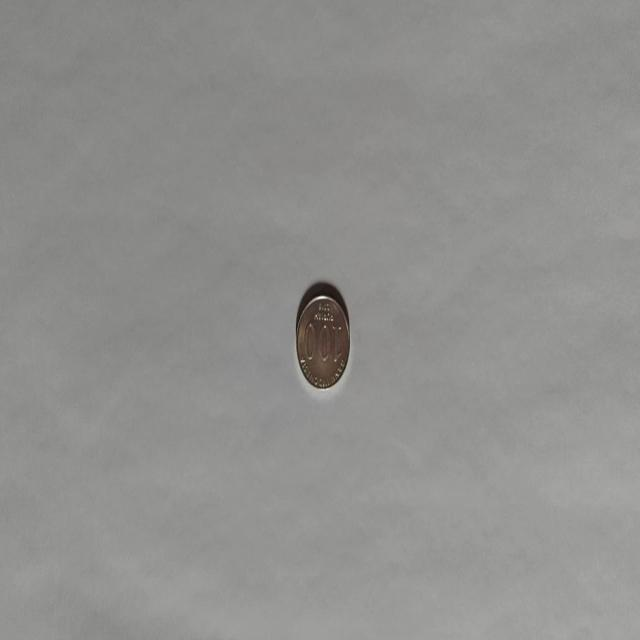seratus rupiah: (295, 290, 350, 390)
